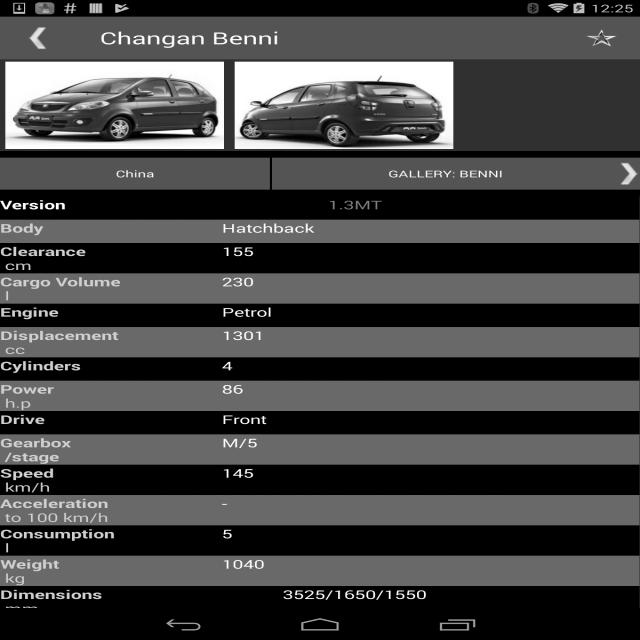Button: (272, 158, 640, 190)
ImageButton: (9, 17, 68, 59)
ImageView: (229, 59, 459, 151), (0, 59, 229, 150)
TextView: (0, 158, 270, 190), (0, 586, 283, 616), (282, 586, 640, 609), (0, 273, 222, 304), (0, 434, 222, 465), (0, 525, 222, 556), (0, 243, 222, 273), (0, 327, 222, 357), (0, 381, 222, 411), (0, 465, 222, 495), (0, 495, 222, 525), (0, 556, 222, 586), (222, 273, 457, 297), (222, 304, 457, 328), (222, 434, 457, 458), (222, 525, 457, 549), (222, 220, 457, 243), (222, 243, 457, 266), (222, 327, 457, 350), (222, 359, 457, 382), (222, 381, 457, 404), (222, 411, 457, 434), (222, 465, 457, 488), (222, 495, 457, 518), (222, 556, 457, 579), (0, 196, 195, 220), (100, 27, 279, 49), (0, 220, 222, 236), (0, 304, 222, 320), (0, 359, 222, 375), (0, 411, 222, 427), (572, 22, 631, 54), (548, 273, 640, 290), (548, 434, 640, 451), (548, 496, 640, 513), (548, 525, 640, 542), (457, 273, 548, 290), (457, 434, 548, 451), (457, 496, 548, 513), (457, 525, 548, 542), (548, 220, 640, 236), (548, 243, 640, 259), (548, 304, 640, 320), (548, 327, 640, 343), (548, 359, 640, 375), (548, 381, 640, 397), (548, 411, 640, 427), (548, 465, 640, 481), (548, 556, 640, 572), (457, 220, 548, 236), (457, 243, 548, 259), (457, 304, 548, 320), (457, 327, 548, 343), (457, 359, 548, 375), (457, 381, 548, 397), (457, 411, 548, 427), (457, 465, 548, 481), (457, 556, 548, 572), (323, 196, 382, 213), (86, 36, 96, 40)
